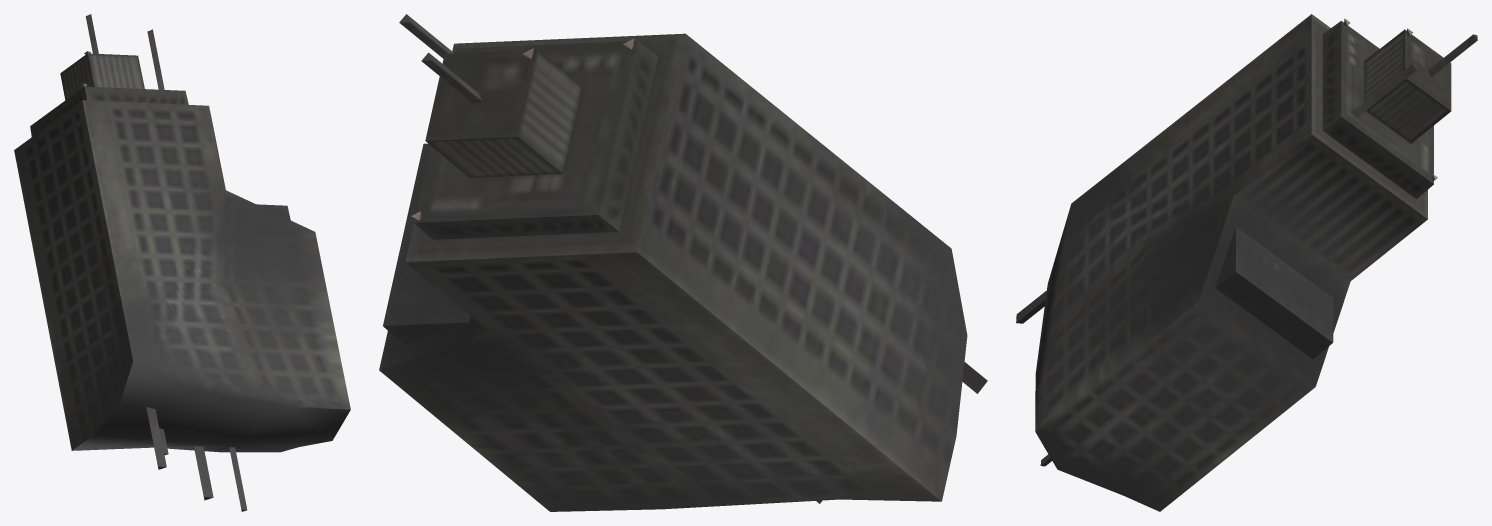
File: skyBuildingAAB_pos_grp (4).fbx
3 views of the same model, side by side, from view 1: azimuth 30°, elevation 25°; view 2: azimuth 150°, elevation 25°; view 3: azimuth 270°, elevation 25° (orthographic). The views are drawn at different scales.
Visible parts, largest first — view 1: skyBuildingAAB_geo; view 2: skyBuildingAAB_geo; view 3: skyBuildingAAB_geo.
Boxes of the visible parts, x1,y1,x2,y2 form: skyBuildingAAB_geo: [14, 14, 350, 511]; skyBuildingAAB_geo: [379, 14, 987, 511]; skyBuildingAAB_geo: [1016, 14, 1477, 511].
Bounding box in the file's own units: 6.19 × 8.21 × 7.7.
